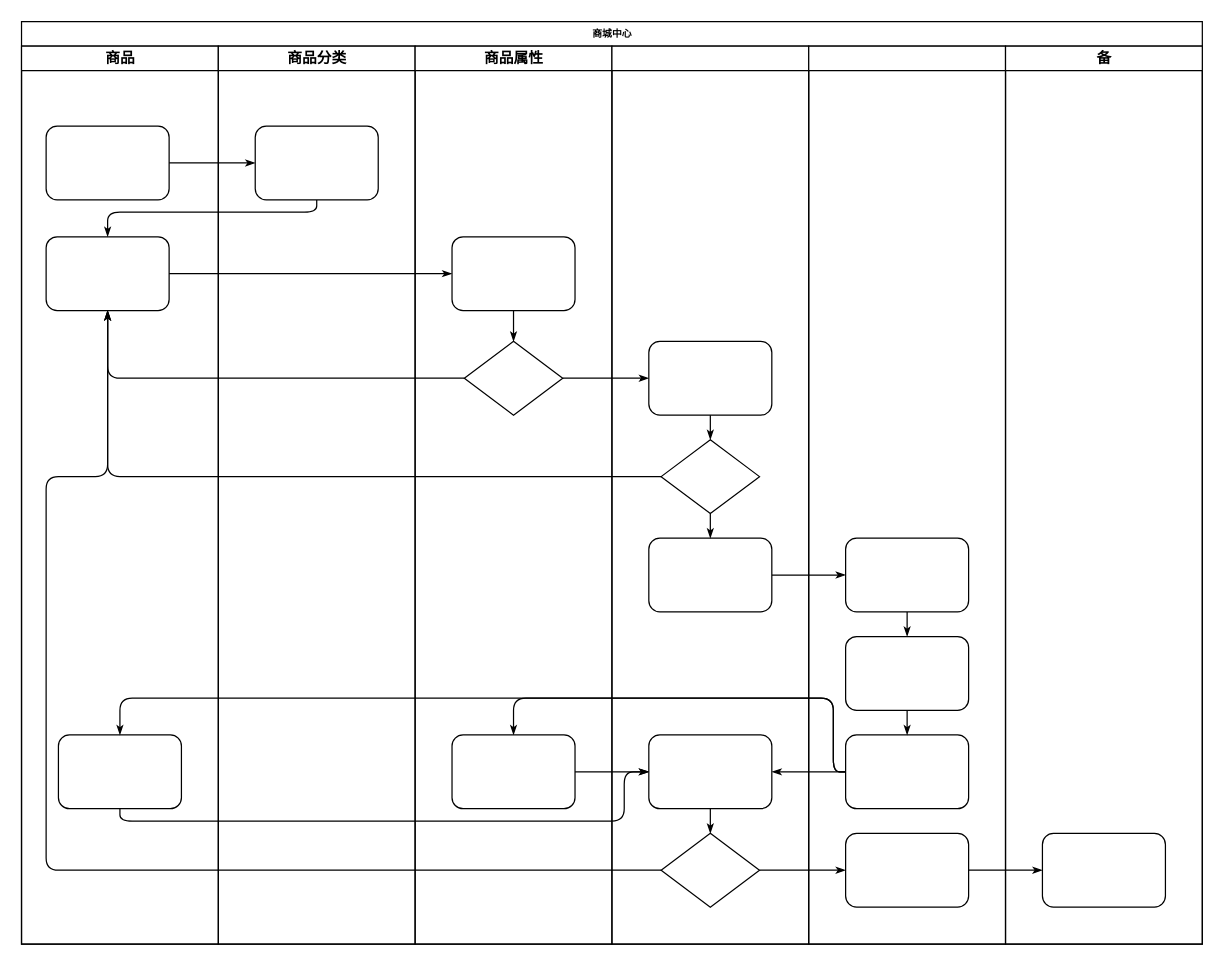
The diagram is 1224 pixels wide and 966 high, and some of its shapes have lost their labels. Here are the shapes that lost their labels. From the top down, the box of each, then its label:
(611, 45, 809, 944): 商品品牌
(807, 45, 1006, 944): 商品评论
